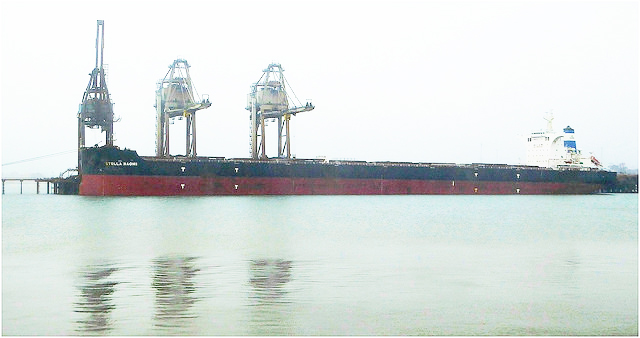bulk carrier: (80, 113, 612, 197)
